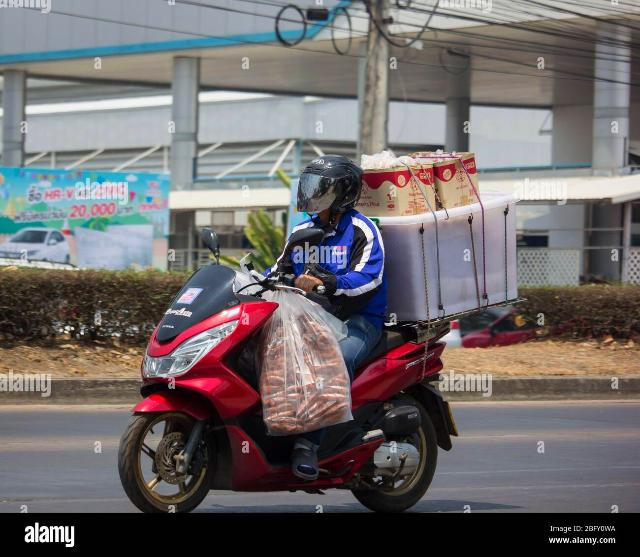helm: (294, 156, 367, 221)
motor: (118, 223, 463, 516)
